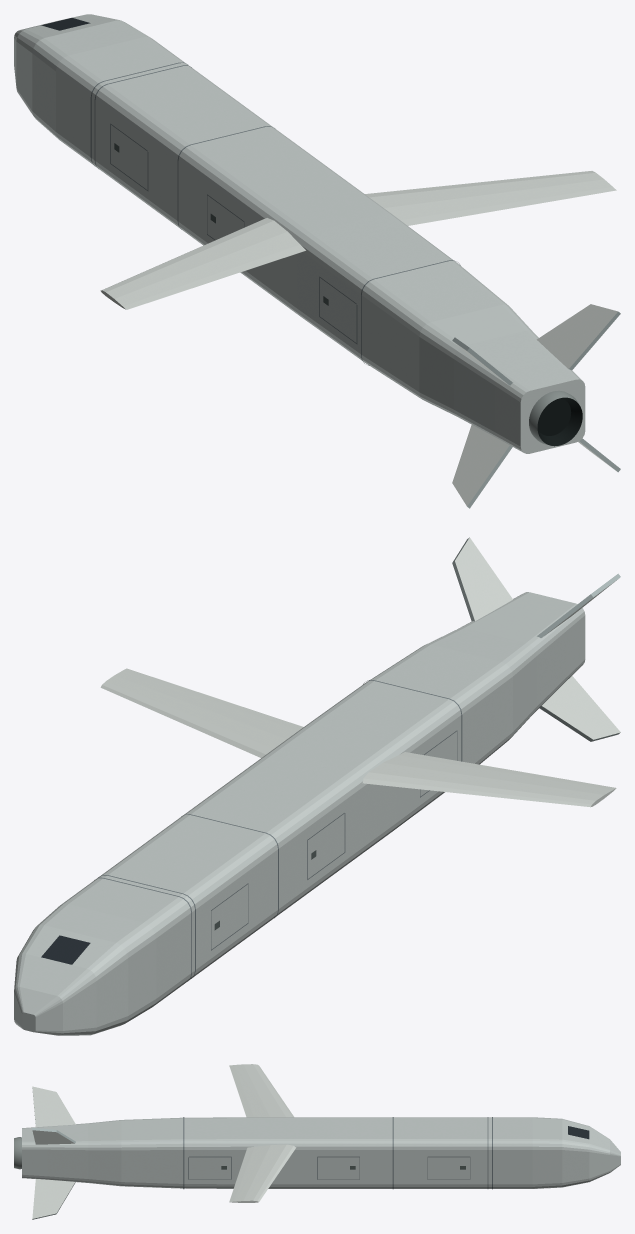
3 views of the same model, one above another, from view 1: azimuth 30°, elevation 25°; view 2: azimuth 150°, elevation 25°; view 3: azimuth 270°, elevation 25° (orthographic). The views are drawn at different scales.
Visible parts, largest first — view 1: faceted_fuselage, main_wing, tail_fin, body_cap, tail_edge, panel_seam, exhaust_dark, exhaust_recess, exhaust_lip; view 2: faceted_fuselage, main_wing, tail_fin, tail_edge, panel_seam, nose_window; view 3: faceted_fuselage, main_wing, tail_fin, panel_outline, panel_seam, exhaust_lip.
Part boxes in pixels (x1,y1,x2,y2): faceted_fuselage: [14, 14, 581, 452]; main_wing: [102, 171, 616, 309]; tail_fin: [452, 304, 617, 506]; body_cap: [520, 379, 585, 453]; tail_edge: [452, 311, 620, 508]; panel_seam: [90, 62, 460, 365]; exhaust_dark: [537, 398, 571, 435]; exhaust_recess: [537, 397, 582, 446]; exhaust_lip: [529, 390, 578, 444]; faceted_fuselage: [14, 592, 585, 1035]; main_wing: [100, 668, 616, 807]; tail_fin: [455, 537, 620, 739]; tail_edge: [452, 537, 620, 741]; panel_seam: [94, 680, 462, 980]; nose_window: [41, 935, 90, 964]; faceted_fuselage: [22, 1117, 620, 1188]; main_wing: [229, 1064, 296, 1201]; tail_fin: [32, 1086, 75, 1218]; panel_outline: [188, 1156, 470, 1179]; panel_seam: [183, 1117, 492, 1189]; exhaust_lip: [14, 1137, 21, 1169].
Bounding box in the file's own units: 4.4 × 1.38 × 8.26.
Materials: 1 (1 with a texture image).
